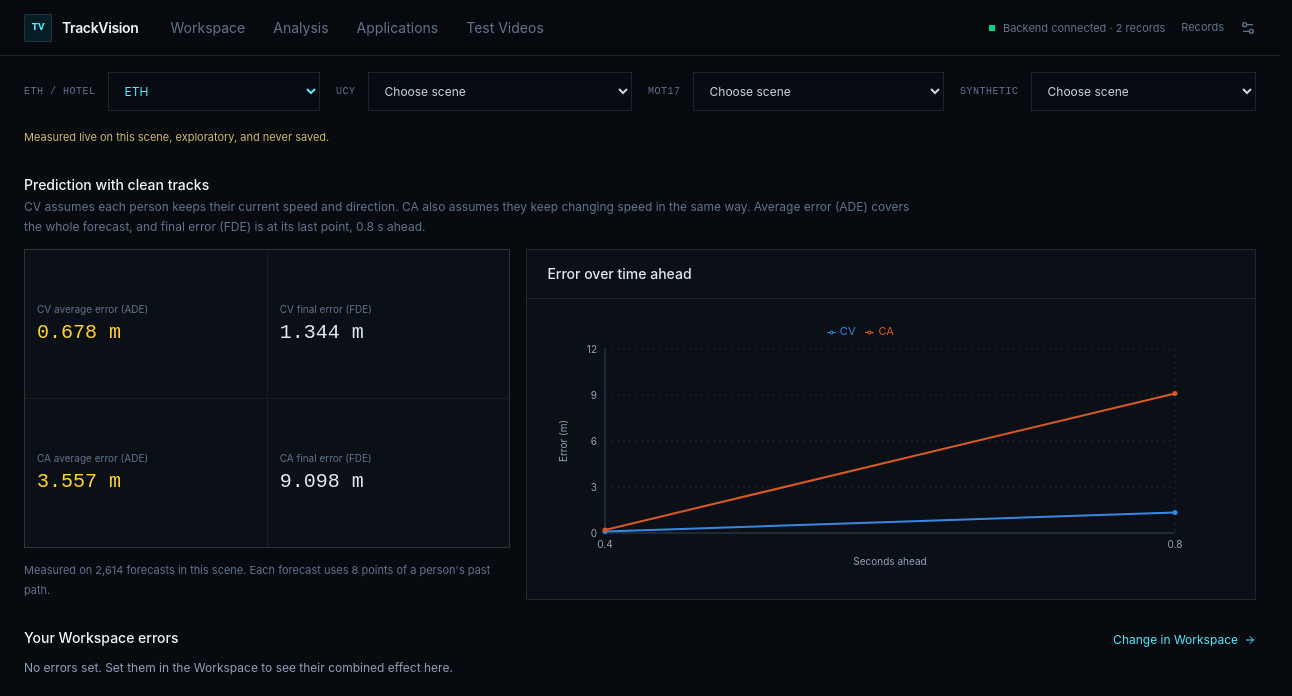
Scenario: analysis › every scene › says why when a scene cannot be calculated
Expected: the element with test id "clean-numbers" is shown, [24,249,510,548]
Select "UNIV" in the dropdown labelled "UCY" at x=500, y=92, box [368,72,632,111]
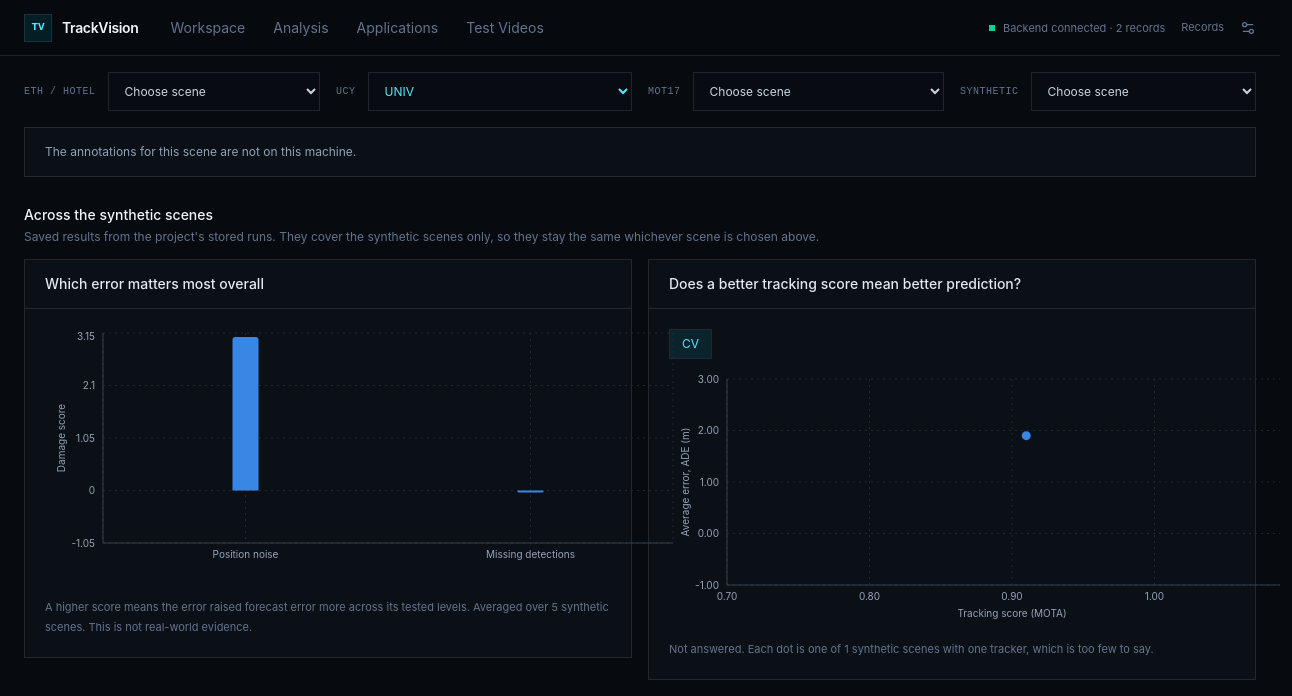
Expected: the text "The annotations for this scene are not on this machine." is shown, [24,127,1256,177]
